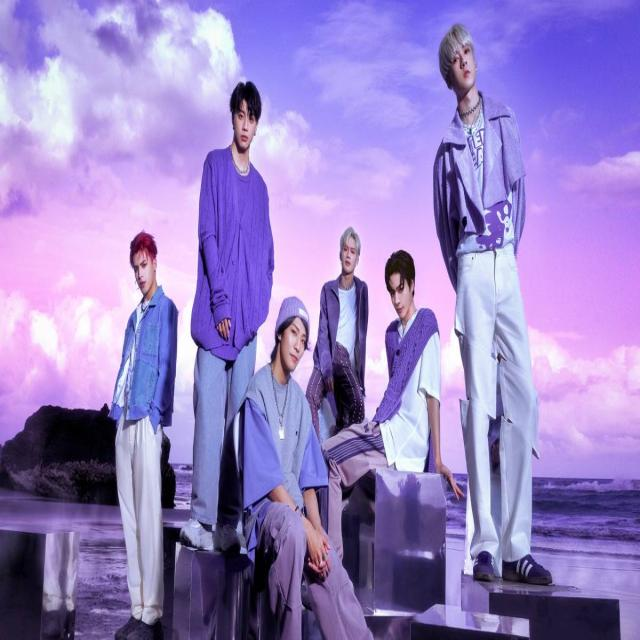sit: (235, 293, 361, 634), (350, 241, 444, 526), (307, 218, 369, 458)
stand: (433, 19, 547, 600), (196, 61, 264, 570), (112, 201, 175, 640)
